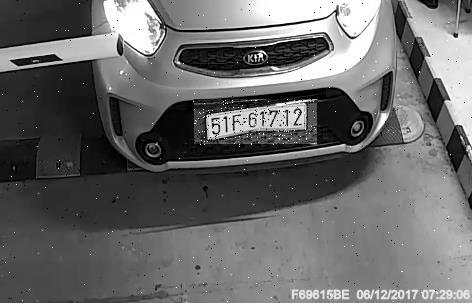License-plate: (196, 101, 320, 147)
